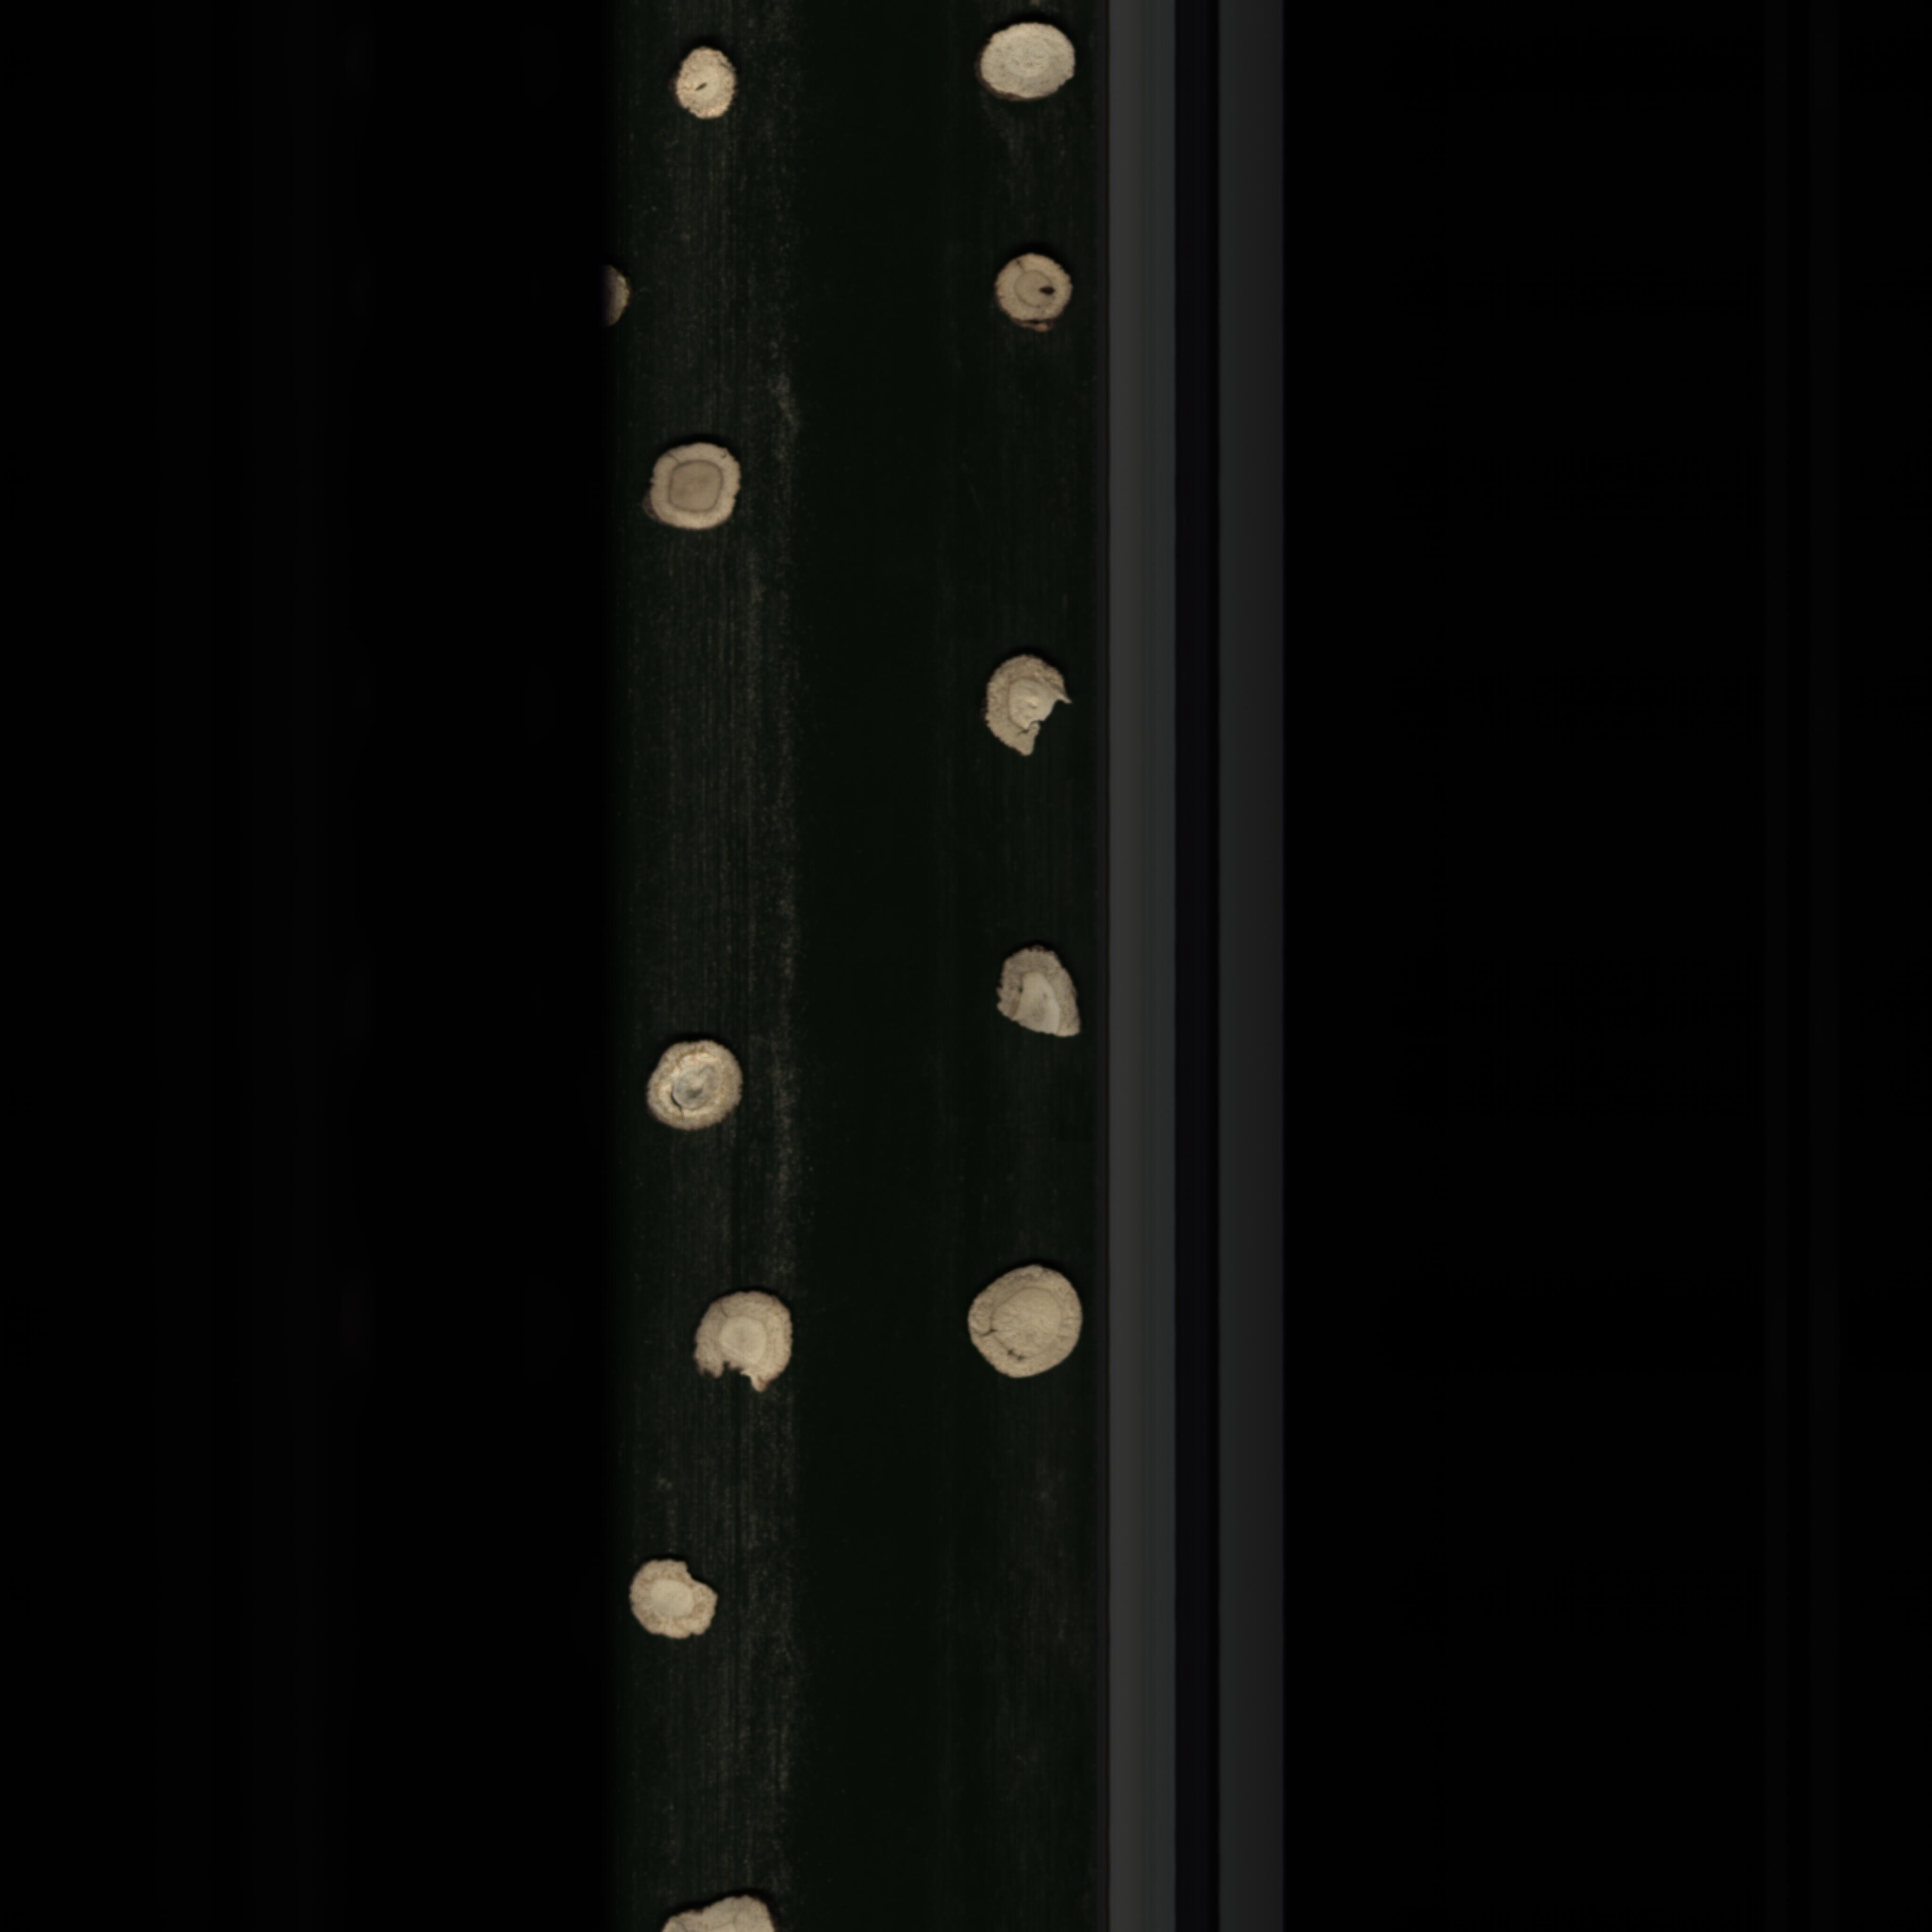debris: (679, 1288, 805, 1396), (993, 941, 1086, 1053), (980, 653, 1074, 763), (623, 1553, 725, 1649), (593, 269, 653, 340)
hole: (993, 244, 1077, 350), (669, 39, 747, 126)
